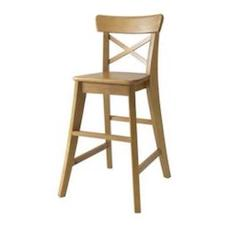chair: (11, 7, 193, 215)
